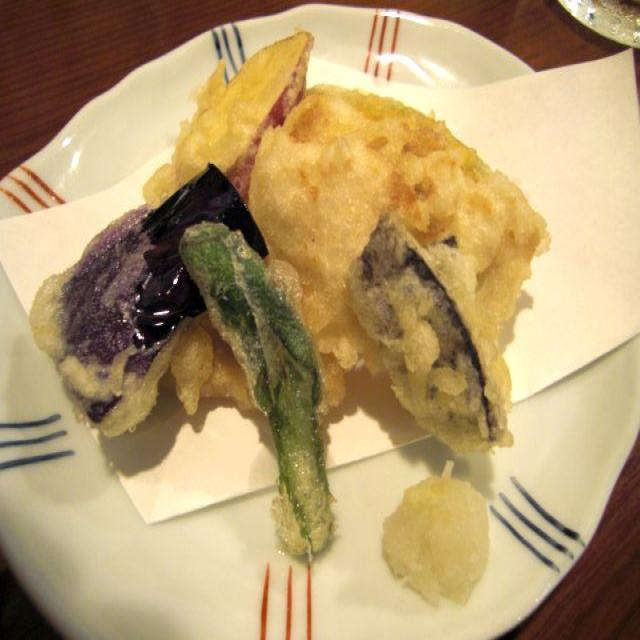蔬菜料理: (21, 23, 592, 597)
